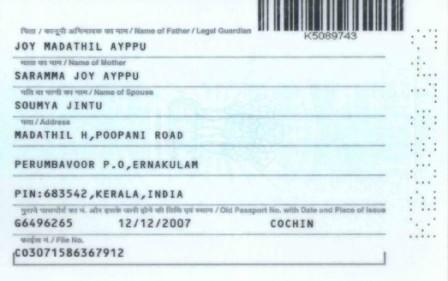File_no: (15, 245, 127, 261)
address: (10, 125, 216, 203)
father_name: (10, 36, 154, 59)
mother_name: (9, 64, 140, 85)
old_passport_details: (12, 214, 324, 232)
passport_no: (300, 29, 361, 42)
spouse_name: (12, 99, 119, 110)
